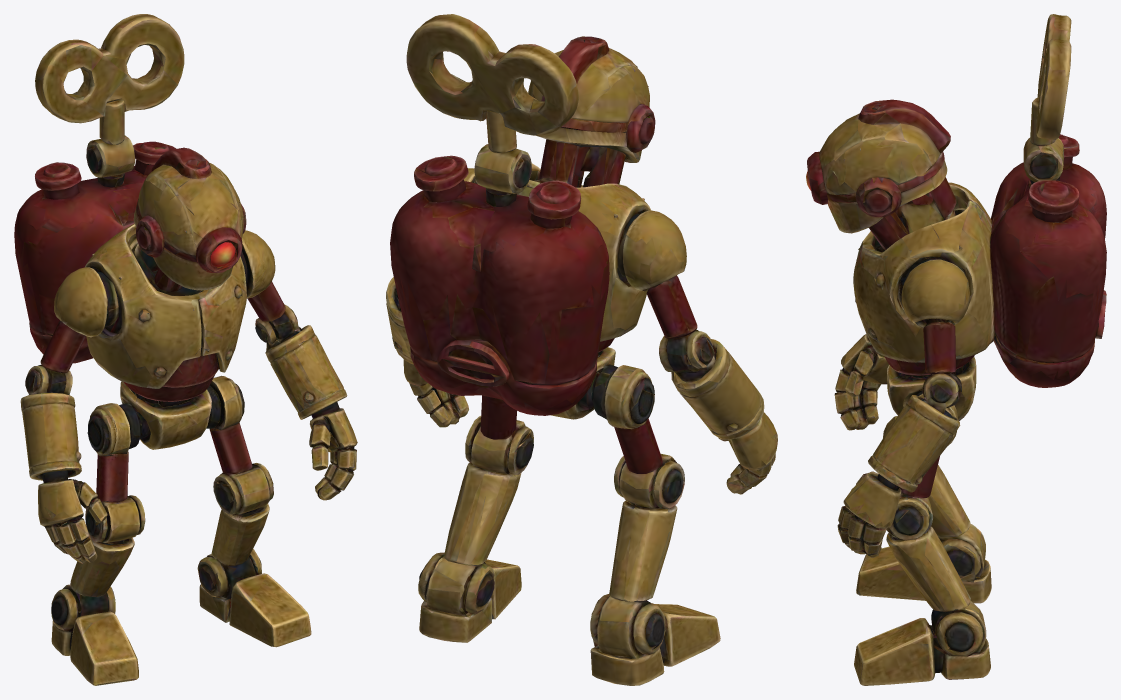
File: clockwork.glb
3 renders of one model, left to right at view 1: azimuth 30°, elevation 25°; view 2: azimuth 150°, elevation 25°; view 3: azimuth 270°, elevation 25°, orthographic. The views are drawn at different scales.
Visible parts, largest first — view 1: output_unwrapped; view 2: output_unwrapped; view 3: output_unwrapped.
Boxes of the visible parts, left/top/right/bottom form: output_unwrapped: left=14, top=14, right=357, bottom=685; output_unwrapped: left=386, top=14, right=777, bottom=685; output_unwrapped: left=806, top=14, right=1106, bottom=685.
Size of the model in its own units: 1.09 by 1.9 by 0.8607.
1 material, 1 textured.
